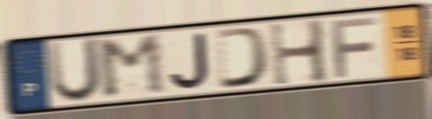D: (214, 25, 273, 91)
F: (328, 14, 382, 80)
H: (267, 17, 333, 89)
J: (167, 30, 212, 92)
M: (94, 32, 171, 102)
U: (45, 36, 104, 106)
